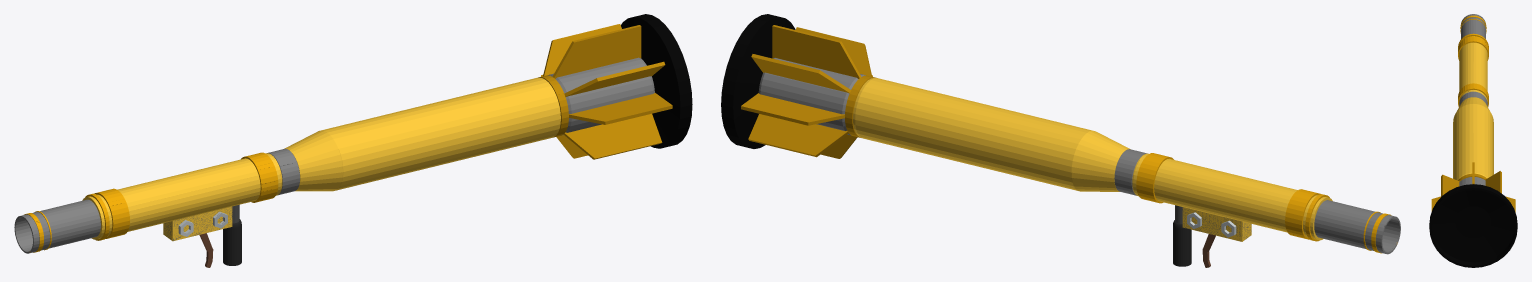
The model's file is MustardMissile_temp.fbx.
3 views of the same model, side by side, from view 1: azimuth 30°, elevation 25°; view 2: azimuth 150°, elevation 25°; view 3: azimuth 270°, elevation 25° (orthographic). The views are drawn at different scales.
Parts seen in each view (by area): view 1: Cylinder.008, Cylinder.003, Cylinder.011, Cube.003, Cylinder, Cylinder.010, Cube, Cube.001, Cube.004, Cube.002, Cylinder.006, Cylinder.004 (+3 smaller); view 2: Cylinder.008, Cylinder.003, Cylinder.011, Cube.002, Cube, Cylinder, Cylinder.010, Cube.001, Cube.003, Cube.004, Cylinder.006, Cylinder.004 (+3 smaller); view 3: Cylinder.011, Cylinder.008, Cylinder.003, Cylinder, Cylinder.004, Cylinder.006, Cube.002, Cube.003, Cylinder.010, Cylinder.007, Cube.001, Cylinder.009 (+3 smaller).
Boxes of the visible parts, bbox=[...] form: Cylinder.008: bbox=[284, 77, 560, 191]; Cylinder.003: bbox=[82, 153, 282, 239]; Cylinder.011: bbox=[621, 14, 692, 148]; Cube.003: bbox=[543, 24, 662, 159]; Cylinder: bbox=[14, 199, 100, 253]; Cylinder.010: bbox=[548, 57, 654, 135]; Cube: bbox=[552, 25, 641, 158]; Cube.001: bbox=[541, 75, 672, 124]; Cube.004: bbox=[163, 206, 232, 241]; Cube.002: bbox=[564, 61, 665, 96]; Cylinder.006: bbox=[241, 152, 278, 202]; Cylinder.004: bbox=[94, 188, 129, 238]; Cylinder.008: bbox=[853, 78, 1130, 191]; Cylinder.003: bbox=[1132, 153, 1332, 240]; Cylinder.011: bbox=[721, 14, 795, 148]; Cube.002: bbox=[748, 27, 871, 157]; Cube: bbox=[772, 25, 861, 158]; Cylinder: bbox=[1314, 200, 1400, 254]; Cylinder.010: bbox=[758, 58, 865, 135]; Cube.001: bbox=[741, 75, 872, 125]; Cube.003: bbox=[751, 54, 851, 93]; Cube.004: bbox=[1182, 207, 1251, 241]; Cylinder.006: bbox=[1136, 153, 1173, 203]; Cylinder.004: bbox=[1285, 189, 1320, 239]; Cylinder.011: bbox=[1429, 184, 1517, 267]; Cylinder.008: bbox=[1453, 97, 1493, 180]; Cylinder.003: bbox=[1459, 42, 1487, 101]; Cylinder: bbox=[1461, 14, 1485, 38]; Cylinder.004: bbox=[1458, 36, 1488, 60]; Cylinder.006: bbox=[1458, 83, 1488, 106]; Cube.002: bbox=[1441, 174, 1459, 196]; Cube.003: bbox=[1485, 171, 1501, 193]; Cylinder.010: bbox=[1459, 177, 1485, 186]; Cylinder.007: bbox=[1459, 91, 1487, 106]; Cube.001: bbox=[1431, 196, 1515, 212]; Cylinder.009: bbox=[1458, 173, 1486, 181].
Size of the model in its own units: 1614 by 339 by 297.
